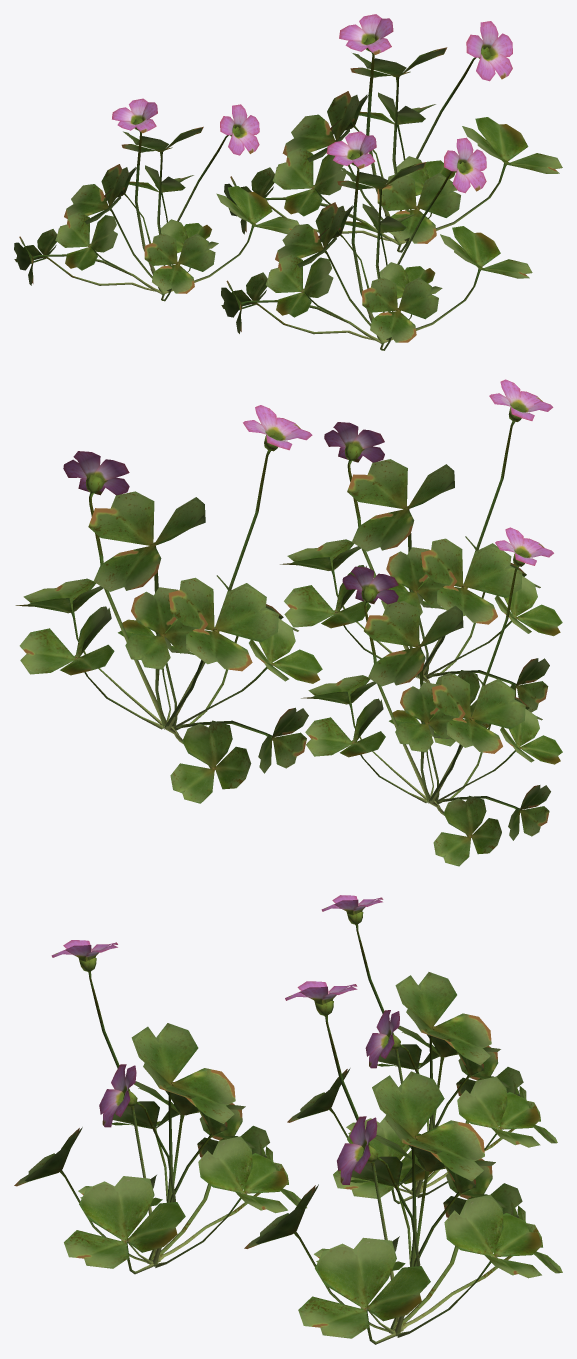
3 views of the same model, one above another, from view 1: azimuth 30°, elevation 25°; view 2: azimuth 150°, elevation 25°; view 3: azimuth 270°, elevation 25° (orthographic). The views are drawn at different scales.
Parts seen in each view (by area): view 1: shrub_sorrel_01_clump_2, shrub_sorrel_01_clump_3, shrub_sorrel_01_clump_1; view 2: shrub_sorrel_01_clump_2, shrub_sorrel_01_clump_1, shrub_sorrel_01_clump_3; view 3: shrub_sorrel_01_clump_2, shrub_sorrel_01_clump_3, shrub_sorrel_01_clump_1.
Part boxes in pixels (x1=…): shrub_sorrel_01_clump_2: x1=224, y1=14, x2=562, y2=252; shrub_sorrel_01_clump_3: x1=221, y1=131, x2=532, y2=350; shrub_sorrel_01_clump_1: x1=14, y1=98, x2=299, y2=301; shrub_sorrel_01_clump_2: x1=15, y1=405, x2=322, y2=803; shrub_sorrel_01_clump_1: x1=301, y1=527, x2=562, y2=866; shrub_sorrel_01_clump_3: x1=280, y1=379, x2=562, y2=746; shrub_sorrel_01_clump_2: x1=244, y1=981, x2=562, y2=1344; shrub_sorrel_01_clump_3: x1=14, y1=940, x2=306, y2=1274; shrub_sorrel_01_clump_1: x1=287, y1=895, x2=557, y2=1203.
Size of the model in its own units: 0.1067 by 0.0544 by 0.0838.
Materials: 1 (1 with a texture image).
